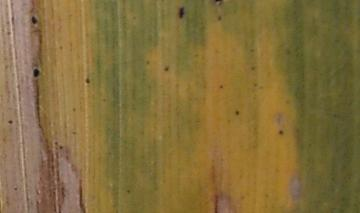tarspot: (177, 4, 186, 20), (29, 14, 39, 26), (31, 66, 40, 78), (83, 76, 92, 86), (277, 126, 284, 137), (144, 58, 152, 67), (162, 64, 169, 73), (216, 12, 223, 21), (217, 82, 224, 91), (233, 109, 241, 116), (249, 64, 256, 72), (212, 1, 223, 6), (12, 185, 19, 191), (248, 47, 255, 53), (7, 118, 12, 126), (70, 130, 78, 135), (58, 144, 64, 150), (52, 139, 58, 145), (71, 106, 76, 113), (251, 82, 257, 87)
